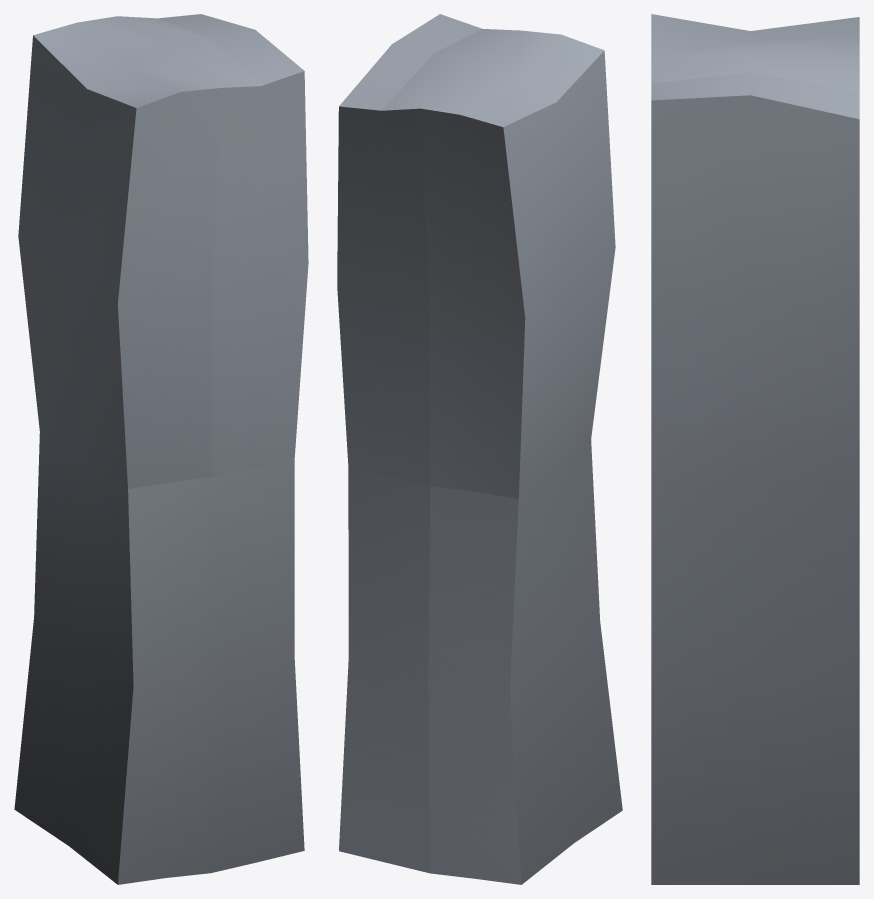
The model's file is Wall_Segement3.fbx.
The picture shows the model from 3 angles, left to right: view 1: azimuth 30°, elevation 25°; view 2: azimuth 150°, elevation 25°; view 3: azimuth 270°, elevation 25°; orthographic projection. The views are drawn at different scales.
Visible parts, largest first — view 1: Wall_Segement3; view 2: Wall_Segement3; view 3: Wall_Segement3.
Part boxes in pixels (x1=…): Wall_Segement3: x1=14, y1=14, x2=308, y2=884; Wall_Segement3: x1=337, y1=14, x2=622, y2=884; Wall_Segement3: x1=651, y1=14, x2=859, y2=884.
Bounding box in the file's own units: 0.9363 × 3.7 × 0.8802.
1 material, 1 textured.
